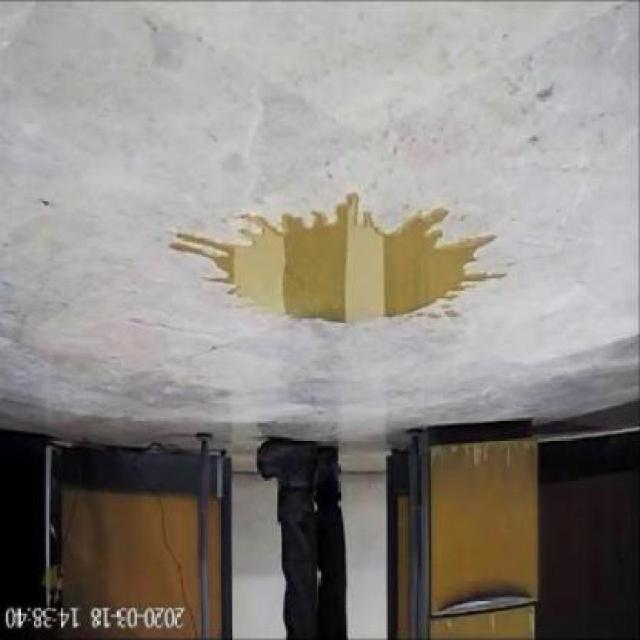spillage: (176, 193, 495, 322)
